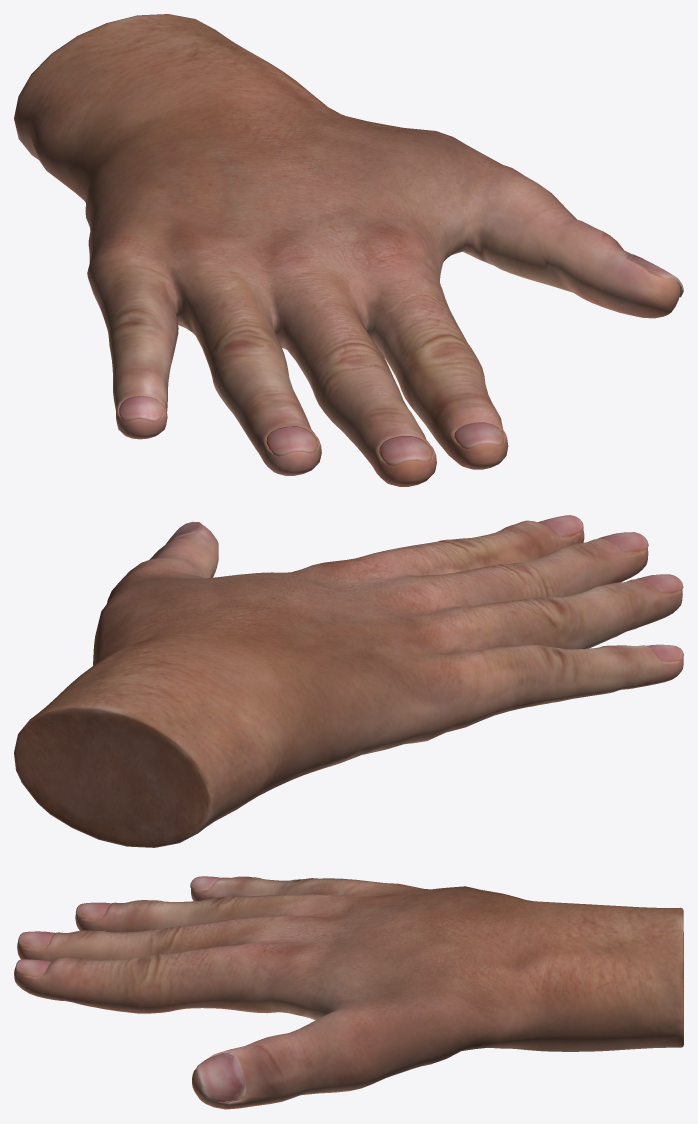
File: hand_open.obj
3 renders of one model, top to bottom at view 1: azimuth 30°, elevation 25°; view 2: azimuth 150°, elevation 25°; view 3: azimuth 270°, elevation 25°, orthographic. The views are drawn at different scales.
Parts seen in each view (by area): view 1: Hand; view 2: Hand; view 3: Hand.
Boxes of the visible parts, x1,y1,x2,y2 form: Hand: (14, 14, 683, 486); Hand: (14, 515, 683, 847); Hand: (14, 876, 683, 1109).
Bounding box in the file's own units: 1.12 × 0.2939 × 1.51.
1 material, 1 textured.
